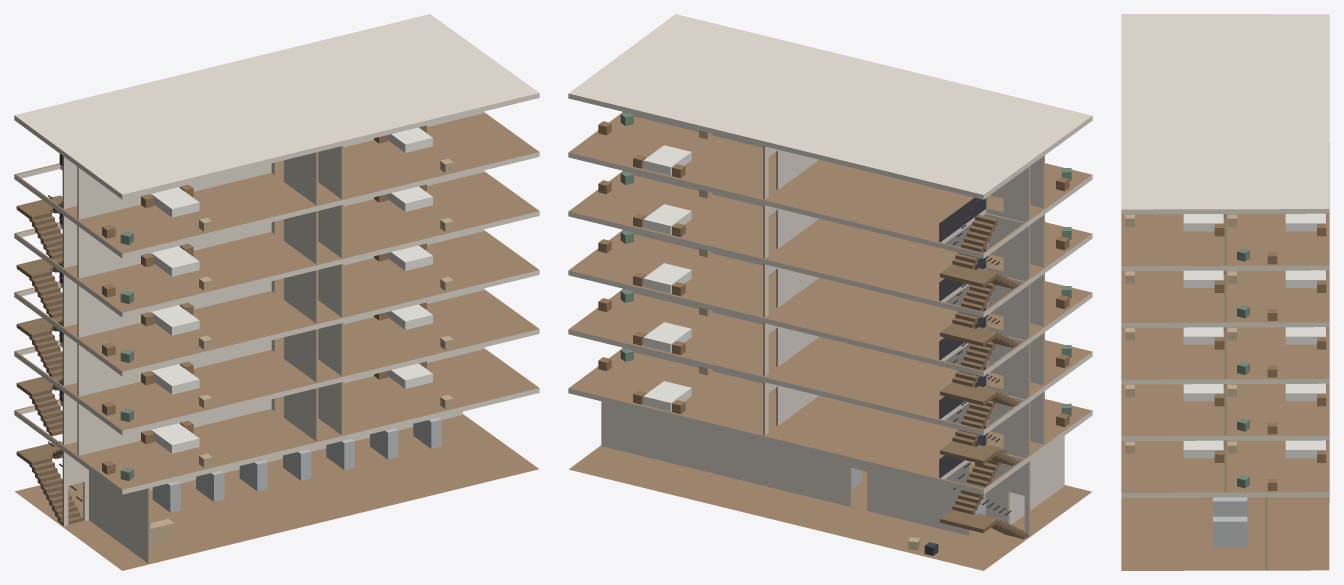
The model's file is interior.glb.
3 views of the same model, side by side, from view 1: azimuth 30°, elevation 25°; view 2: azimuth 150°, elevation 25°; view 3: azimuth 270°, elevation 25° (orthographic). The views are drawn at different scales.
Parts seen in each view (by area): view 1: slabs, partitions, stair, coarse-s0, coarse-s3, coarse-s4, coarse-s5, coarse-s2, coarse-s1; view 2: slabs, partitions, stair, coarse-s1, coarse-s2, coarse-s5, coarse-s3, coarse-s4, coarse-s0; view 3: slabs, coarse-s1, coarse-s5, coarse-s2, coarse-s3, coarse-s4, coarse-s0, partitions.
Boxes of the visible parts, x1,y1,x2,y2 form: slabs: (14,14,539,570); partitions: (62,111,484,563); stair: (16,154,82,525); coarse-s0: (150,417,441,545); coarse-s3: (102,243,453,362); coarse-s4: (102,184,453,303); coarse-s5: (102,125,453,244); coarse-s2: (102,302,453,421); coarse-s1: (102,361,453,480); slabs: (568,14,1092,570); partitions: (601,112,1064,535); stair: (939,197,1028,538); coarse-s1: (598,348,1071,426); coarse-s2: (598,289,1071,368); coarse-s5: (598,112,1071,191); coarse-s3: (598,230,1071,309); coarse-s4: (598,171,1071,250); coarse-s0: (852,468,985,555); slabs: (1121,14,1329,570); coarse-s1: (1125,440,1326,490); coarse-s5: (1125,213,1326,264); coarse-s2: (1125,383,1326,434); coarse-s3: (1125,327,1326,377); coarse-s4: (1125,270,1326,320); coarse-s0: (1213,497,1247,547); partitions: (1224,214,1267,569).
Size of the model in its own units: 23.02 by 19.86 by 10.37.
